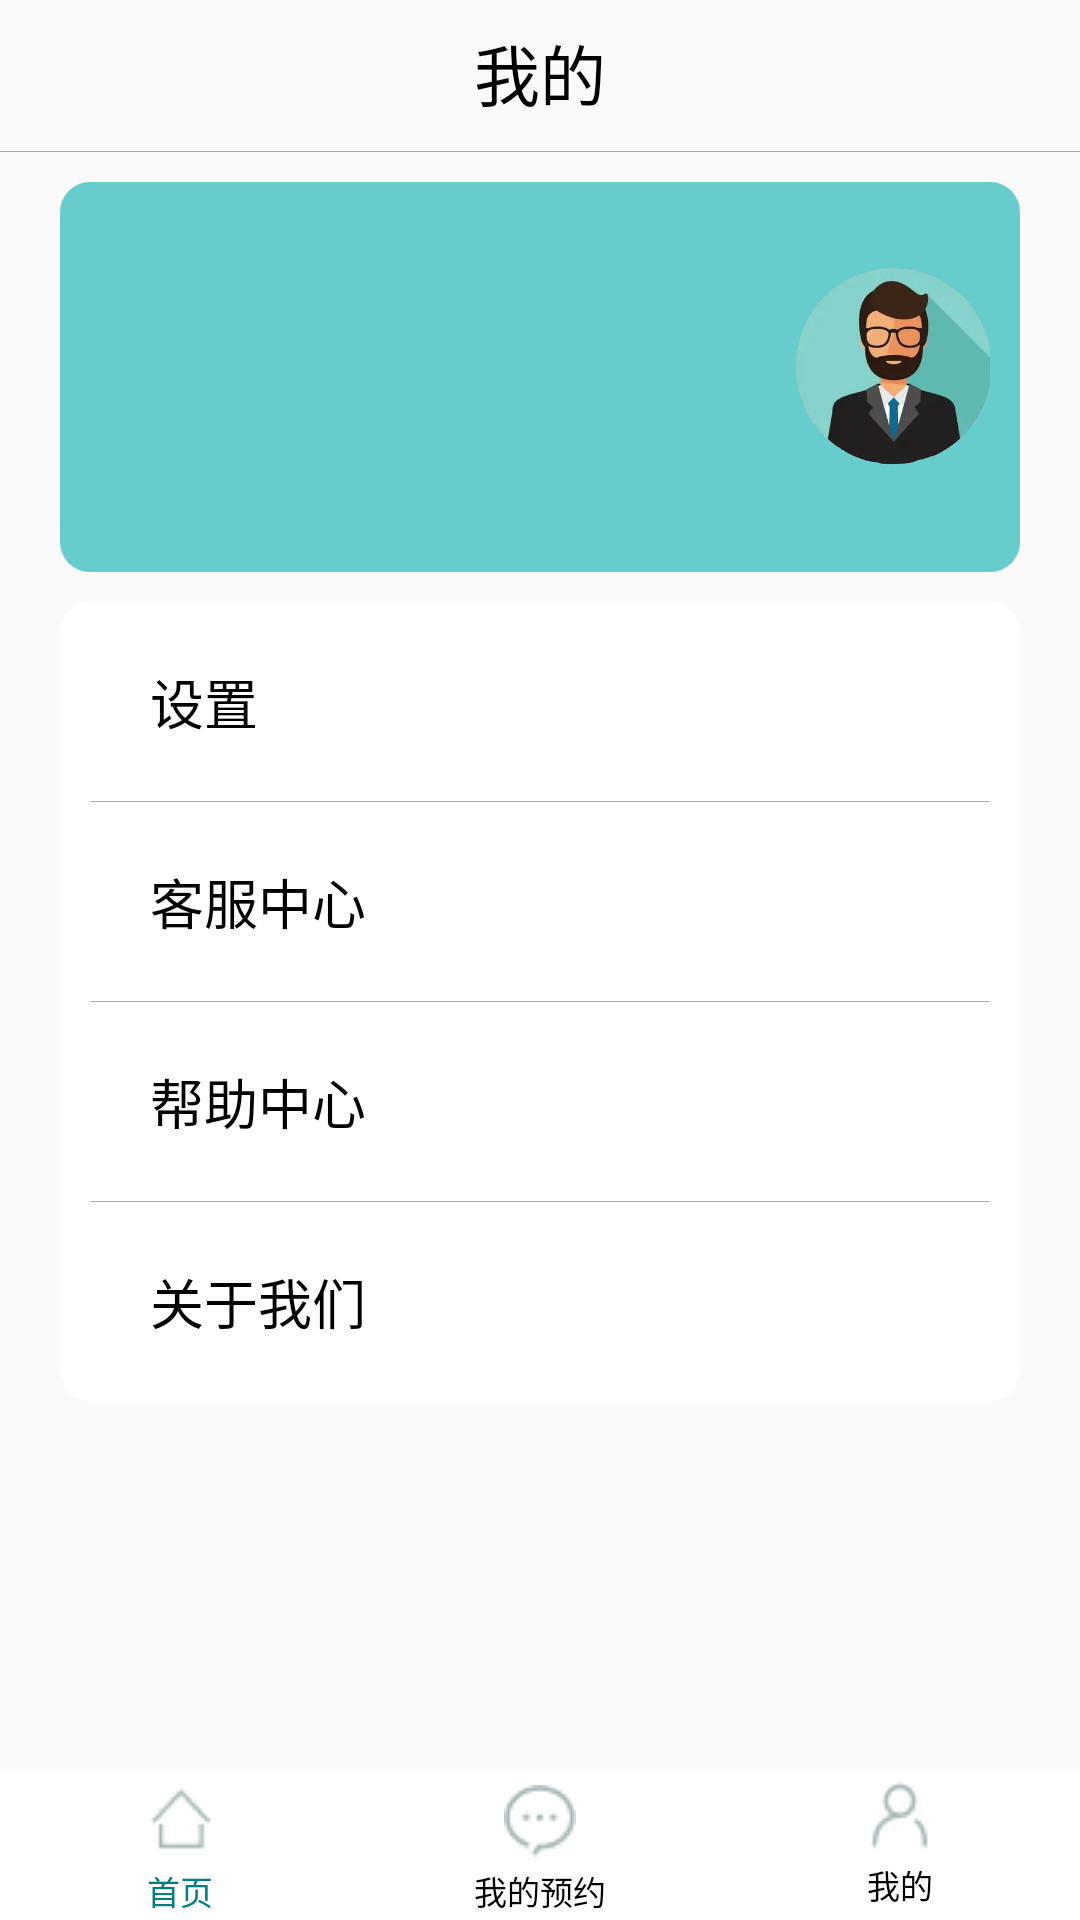

Icon click points for this 1080w x 1920h phone screenshot, format point (x, y):
message: point (540, 1821)
